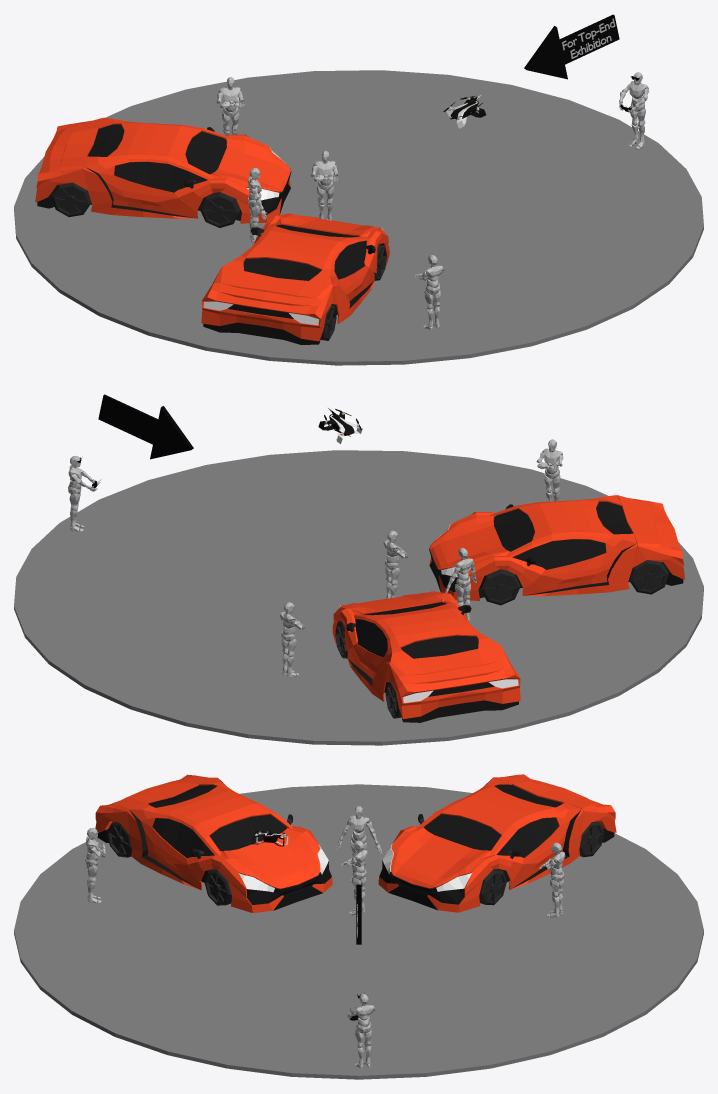
The model's file is pod2.glb.
3 views of the same model, one above another, from view 1: azimuth 30°, elevation 25°; view 2: azimuth 150°, elevation 25°; view 3: azimuth 270°, elevation 25° (orthographic).
Visible parts, largest first — view 1: pod2, car2, car1, this, man4, man2, man, man3, man1, Drone; view 2: pod2, car1, car2, this, man3, man1, man, man4, man2, Drone; view 3: pod2, car1, car2, man4, man3, man1, man, man2.
Part boxes in pixels (x1=…): pod2: x1=14, y1=70, x2=703, y2=365; car2: x1=35, y1=117, x2=291, y2=227; car1: x1=201, y1=213, x2=389, y2=344; this: x1=524, y1=14, x2=619, y2=79; man4: x1=619, y1=72, x2=649, y2=149; man2: x1=310, y1=150, x2=338, y2=220; man: x1=414, y1=255, x2=444, y2=330; man3: x1=216, y1=77, x2=244, y2=135; man1: x1=247, y1=168, x2=266, y2=243; Drone: x1=446, y1=94, x2=486, y2=128; pod2: x1=14, y1=450, x2=703, y2=745; car1: x1=429, y1=495, x2=685, y2=605; car2: x1=332, y1=591, x2=520, y2=722; this: x1=98, y1=394, x2=193, y2=459; man3: x1=280, y1=602, x2=305, y2=677; man1: x1=444, y1=547, x2=476, y2=620; man: x1=536, y1=439, x2=563, y2=501; man4: x1=68, y1=455, x2=98, y2=531; man2: x1=383, y1=530, x2=408, y2=598; Drone: x1=318, y1=407, x2=362, y2=444; pod2: x1=14, y1=784, x2=703, y2=1079; car1: x1=95, y1=774, x2=332, y2=912; car2: x1=378, y1=774, x2=616, y2=912; man4: x1=347, y1=993, x2=375, y2=1068; man3: x1=539, y1=842, x2=565, y2=918; man1: x1=335, y1=806, x2=381, y2=881; man: x1=85, y1=827, x2=106, y2=903; man2: x1=341, y1=840, x2=367, y2=915.
Bounding box in the file's own units: 15.52 × 3.6 × 15.52.
Materials: 13 (2 with a texture image).
